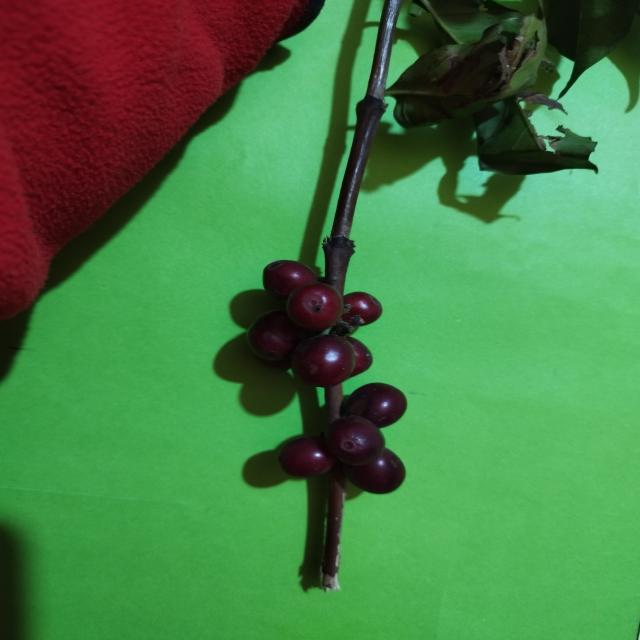Infectado: (286, 283, 343, 331)
Sano: (290, 334, 355, 388), (324, 415, 385, 467), (340, 448, 406, 494), (341, 382, 407, 428), (277, 437, 336, 478), (262, 260, 318, 300)
